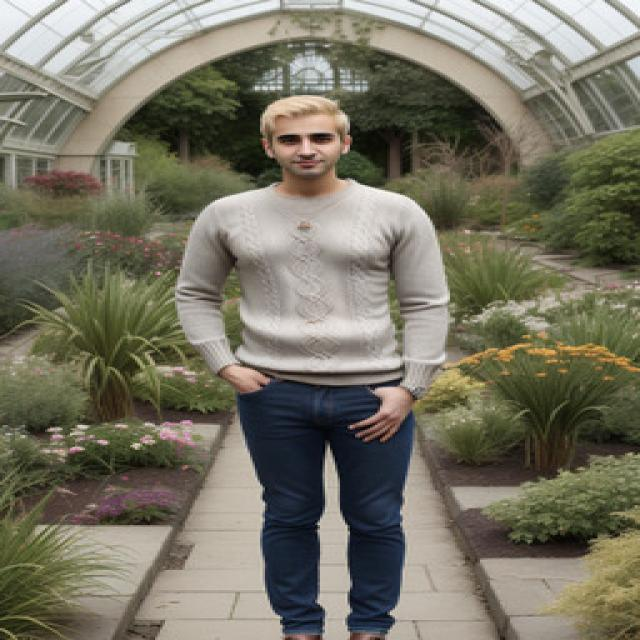Ai human 2: (160, 81, 485, 640)
